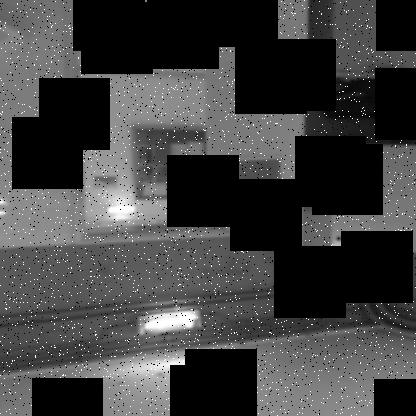Porte: (61, 1, 314, 253)
